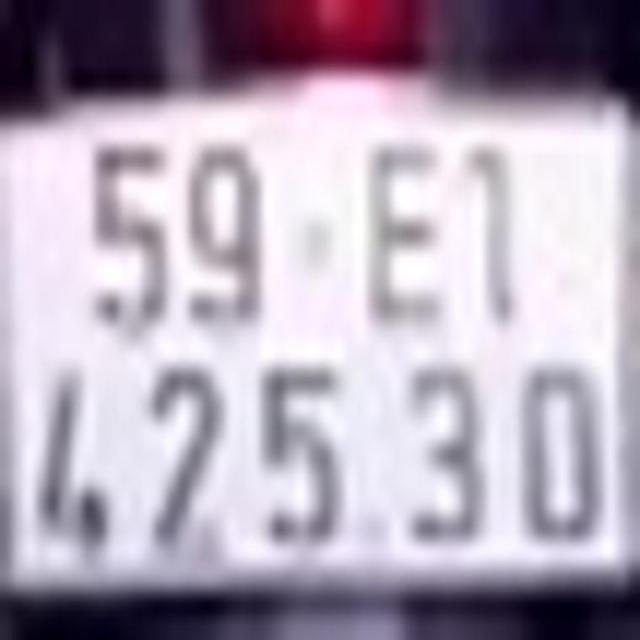0: (517, 362, 604, 551)
1: (457, 141, 515, 328)
2: (143, 365, 233, 562)
3: (403, 362, 484, 554)
4: (30, 361, 109, 562)
5: (255, 361, 347, 553), (87, 140, 169, 332)
9: (181, 143, 264, 347)
E: (363, 138, 447, 325)
